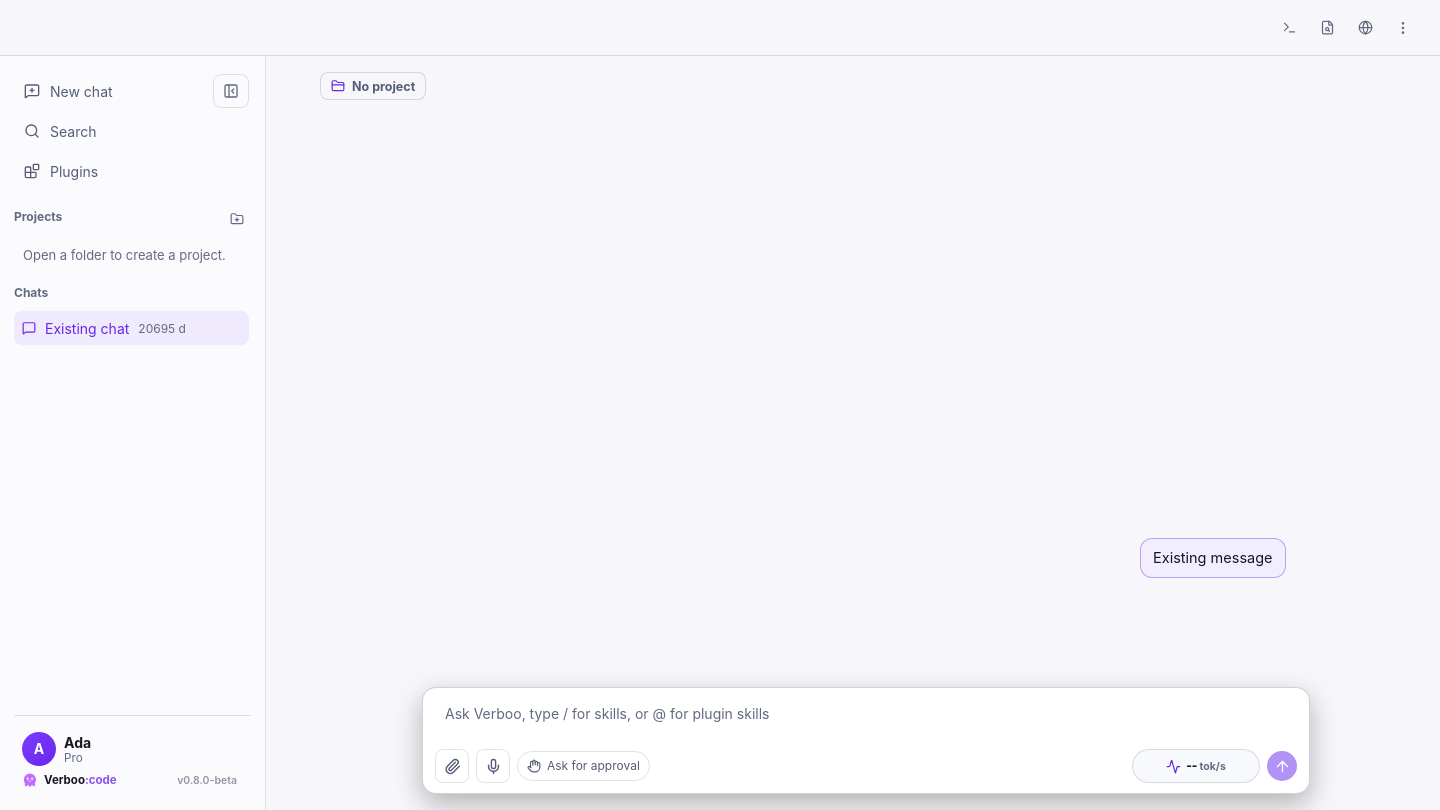
Scenario: App — provider quota-error UX (field defect) › claude turn quota error names the Claude account — never Verboo, never ChatGPT
This screenshot has width=1440, height=810.
expect the button "A Ada Pro Verboo:code v0.8.0-beta" is shown: met, box [14,724,251,796]
In the text box with placeholder "Ask Verboo, type / for skills, or @ for plugin skills": {"x": 866, "y": 718} [435,698,1297,738], type "Refactor the parser"
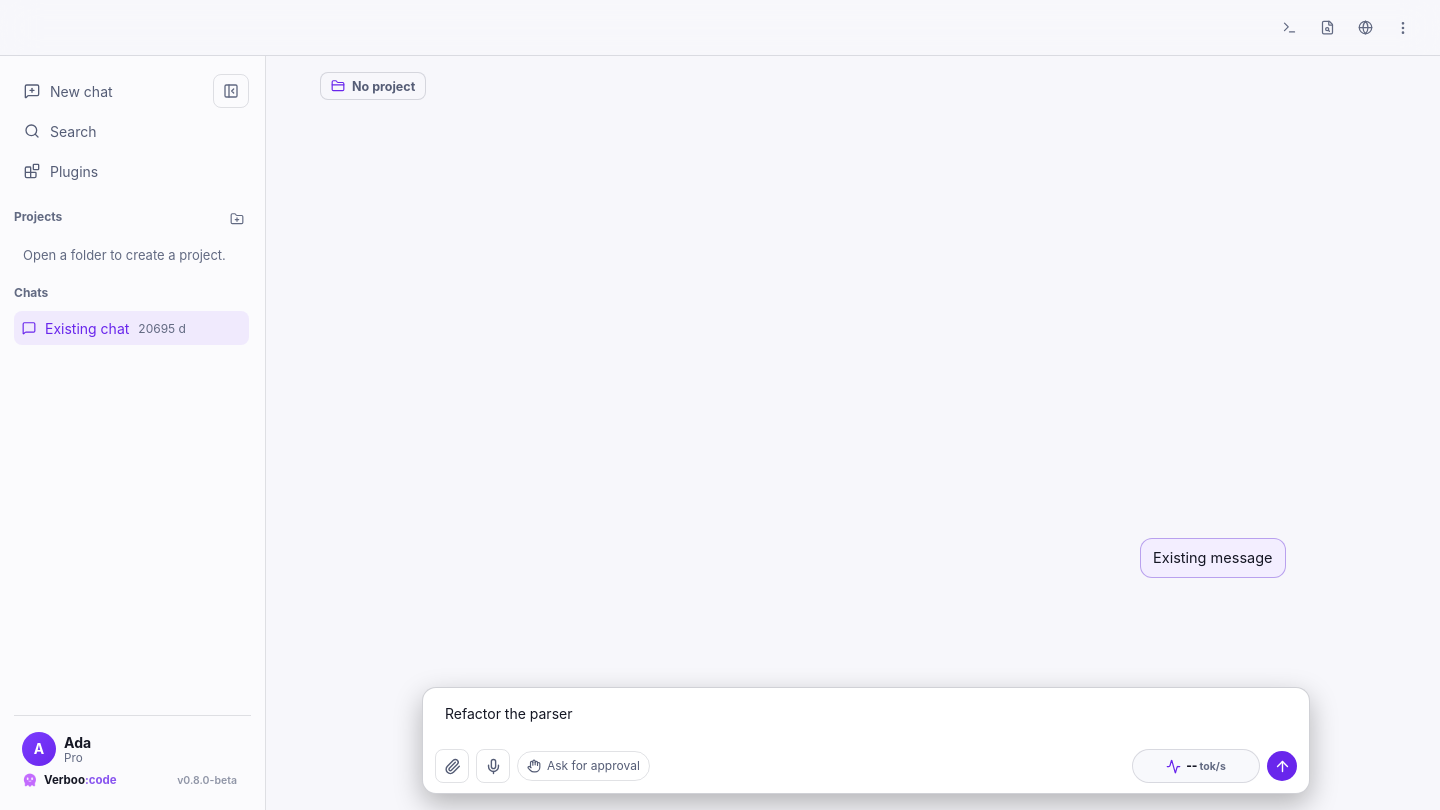
Click the button with class "send-button": {"x": 1282, "y": 766} [1267,751,1297,781]
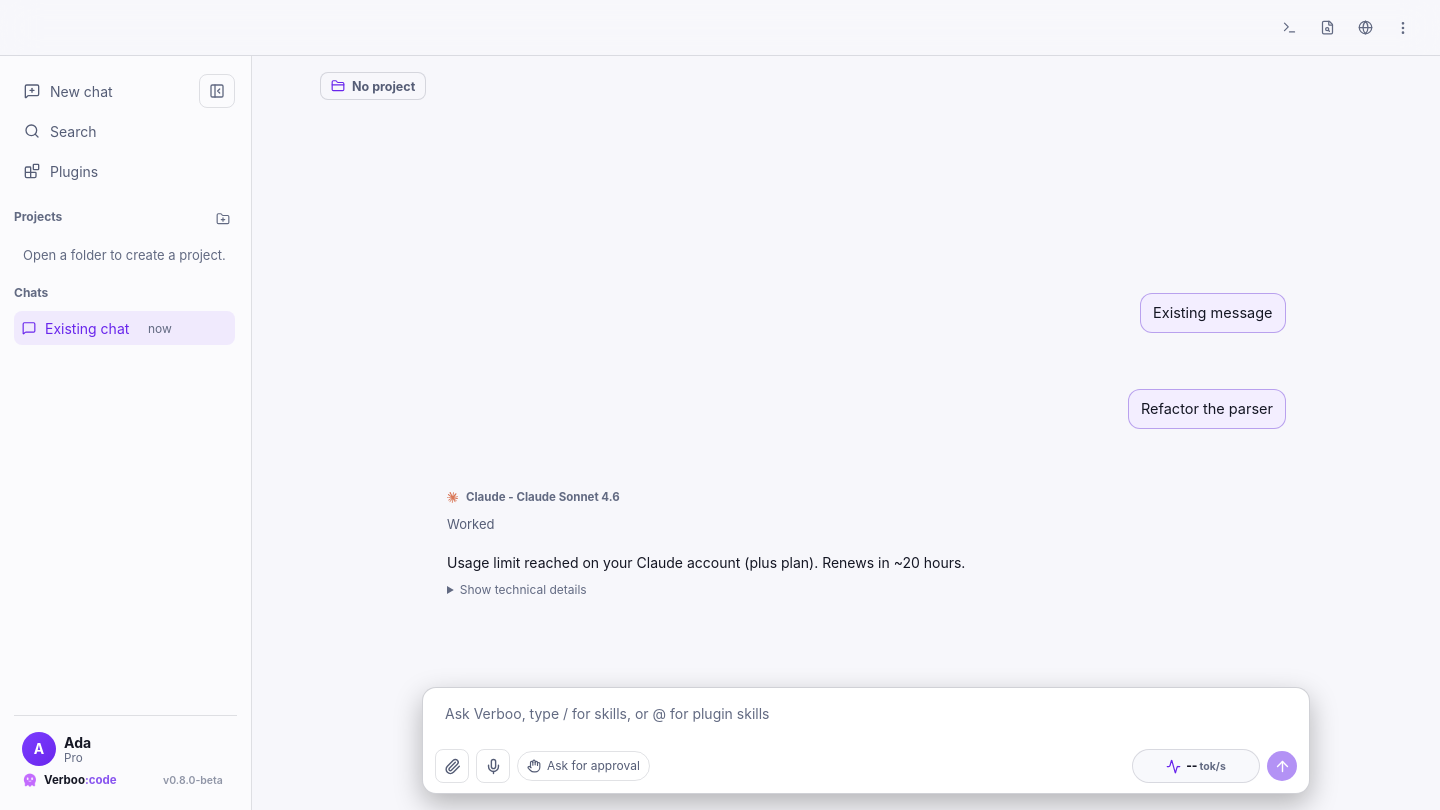
expect the element with class "turn-view" shows "Usage limit reached on your Claude account (plus plan). Renews in ~20 hours.": met, box [447,554,965,571]
expect the element with class "turn-view" is shown: met, box [447,490,965,597]
